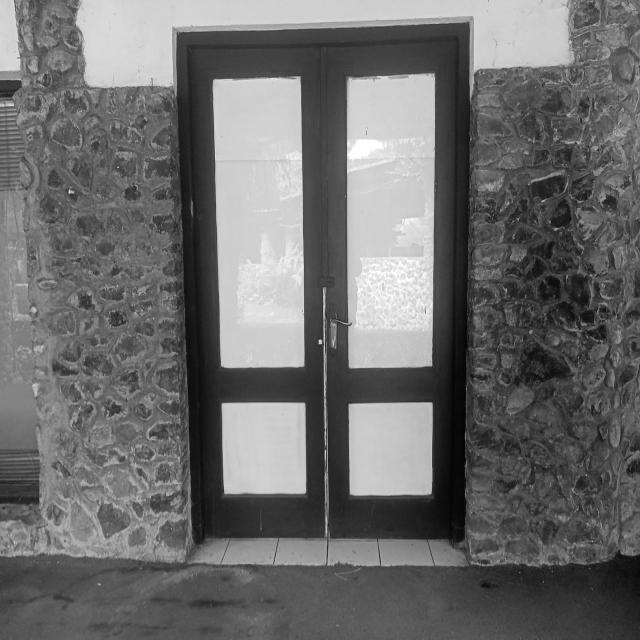door: (176, 26, 468, 536)
